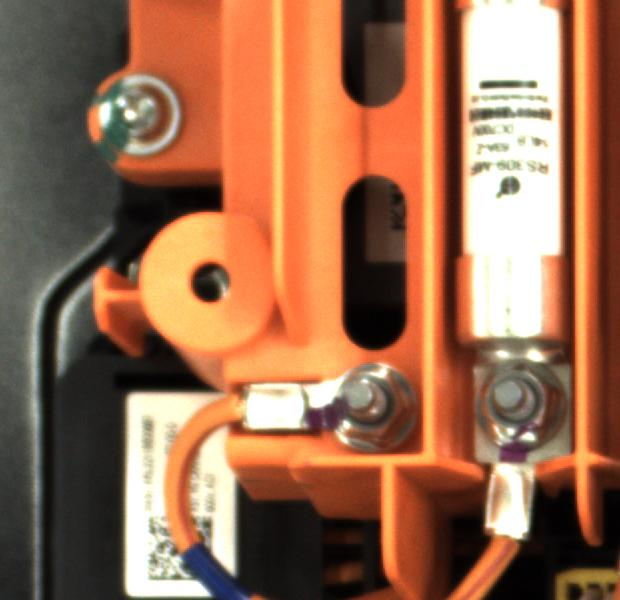screw_m: (88, 66, 201, 165)
screw_s: (471, 353, 575, 449), (322, 360, 417, 453)
